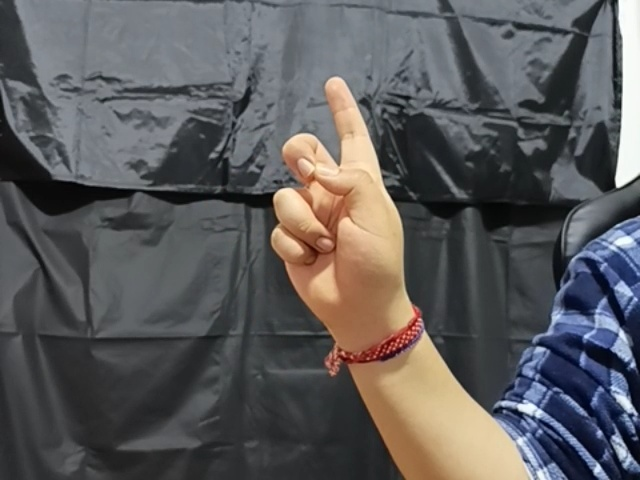D: (266, 73, 423, 328)
